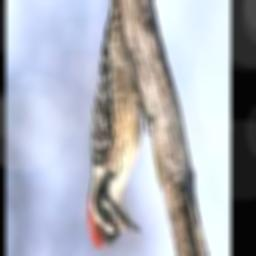Woodpecker: (85, 0, 156, 248)
